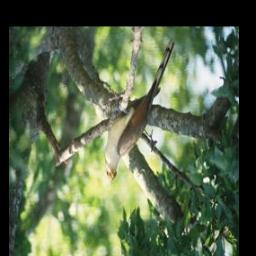Cuckoo: (102, 37, 176, 185)
